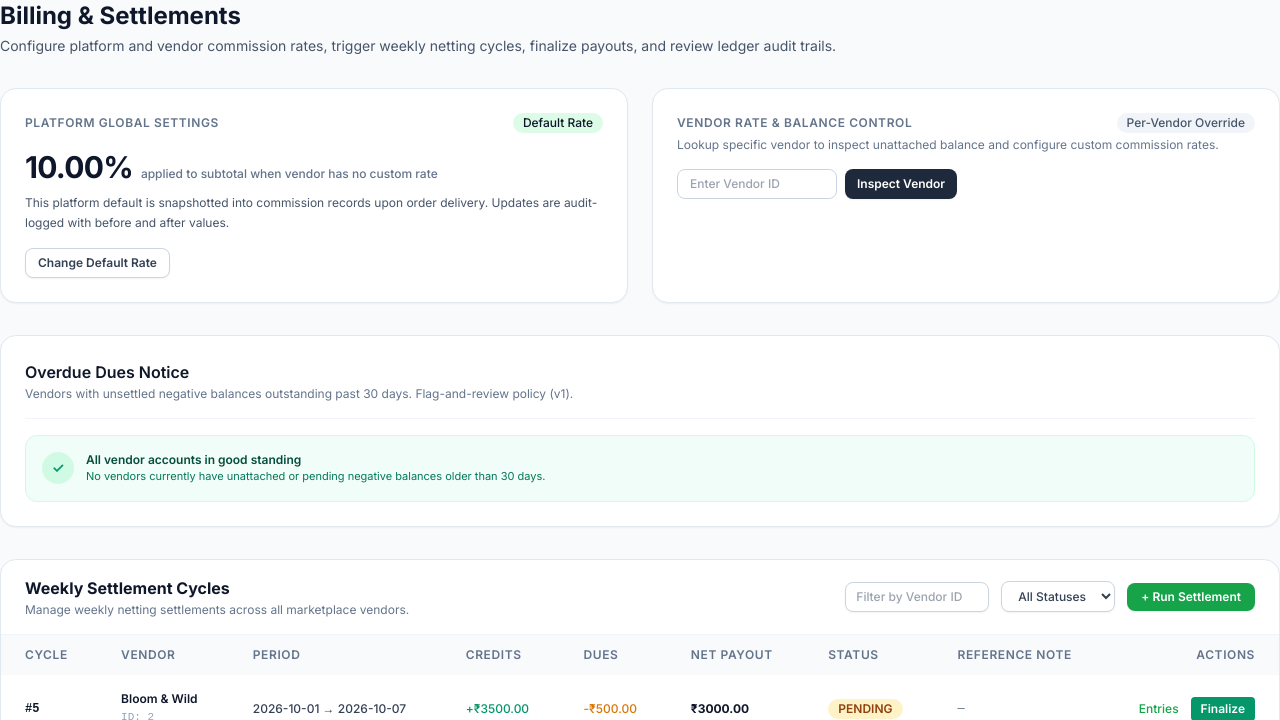
AdminBillingPage › opens run settlement modal when run settlement button clicked
Click the button "+ Run Settlement" at coordinates (1191, 596), box [1127,582,1255,610]
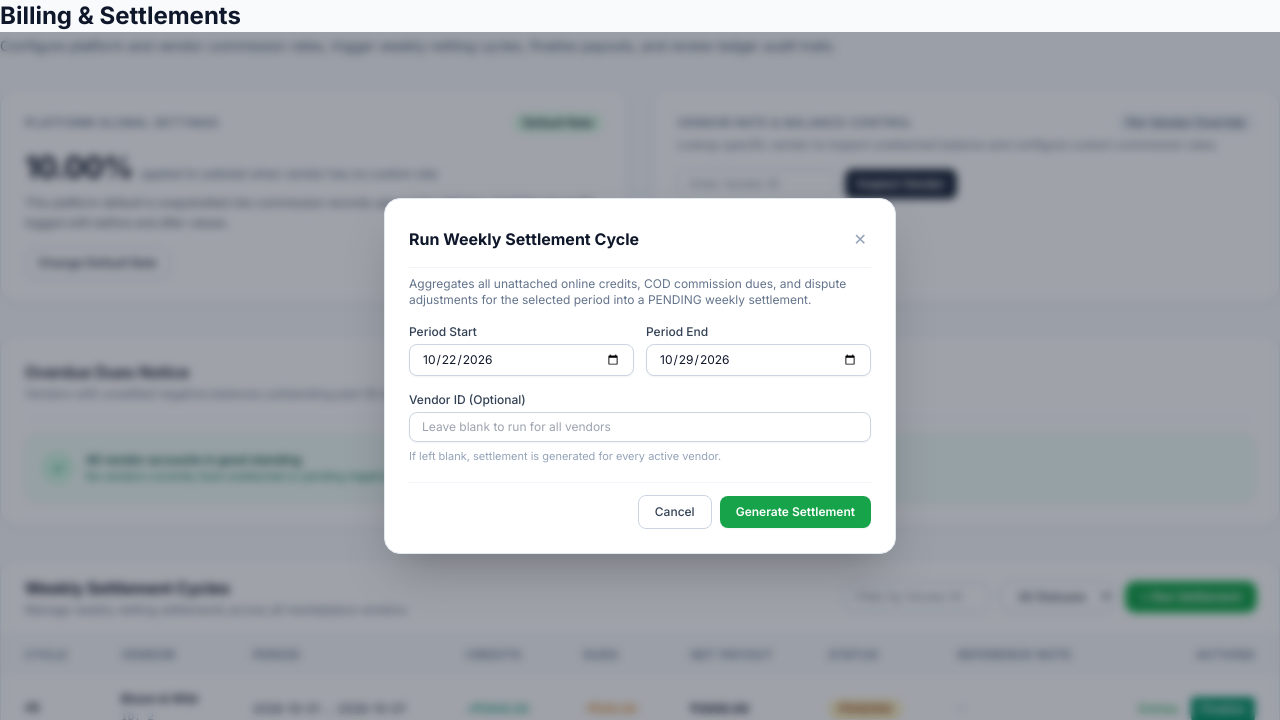
Check: the element with test id "run-settlement-modal" is shown
Check: the button "Generate Settlement" is shown, box [720,496,871,528]
